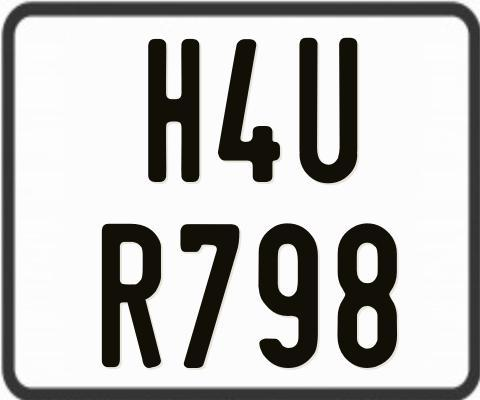4: (217, 38, 280, 182)
7: (177, 222, 238, 372)
8: (335, 222, 398, 368)
9: (258, 220, 324, 367)
H: (146, 36, 198, 183)
R: (100, 221, 162, 370)
U: (296, 38, 355, 187)
